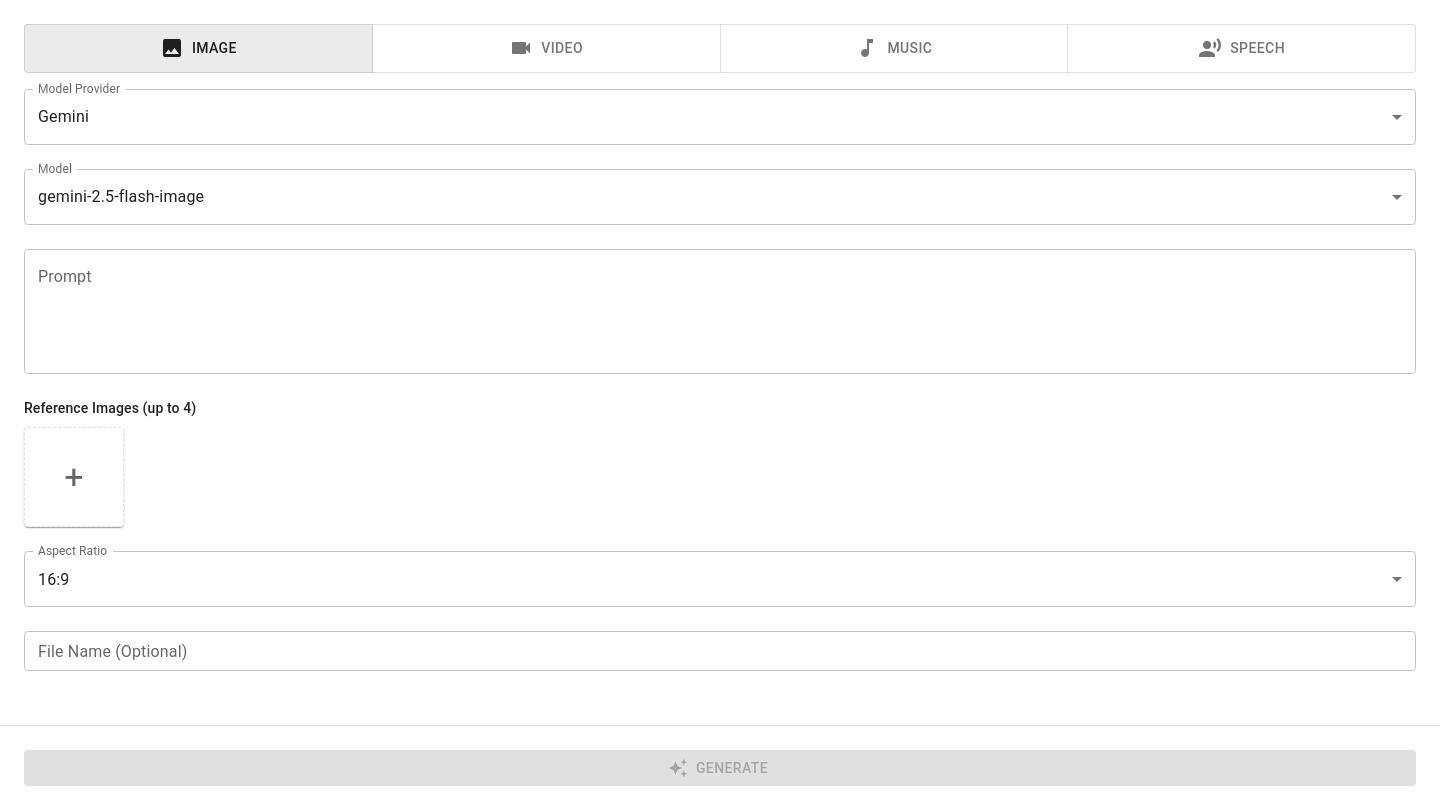
Test case: GenerateInterface › should display a success message on successful job initiation
Type "A successful prompt" into the text box labelled "Prompt" at (720, 311), box [38, 265, 1402, 357]
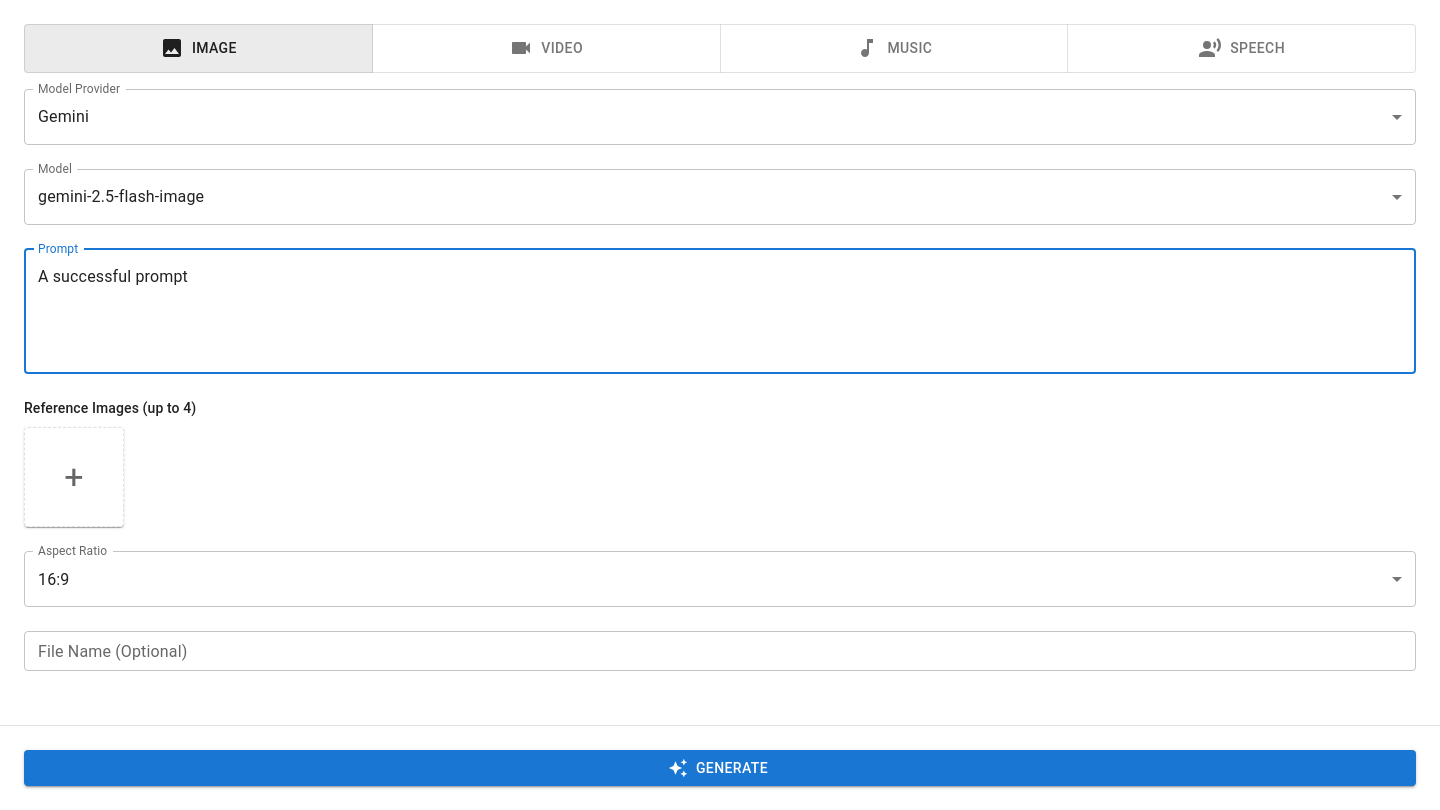
Click the button "Generate" at (720, 768), box [24, 750, 1416, 786]
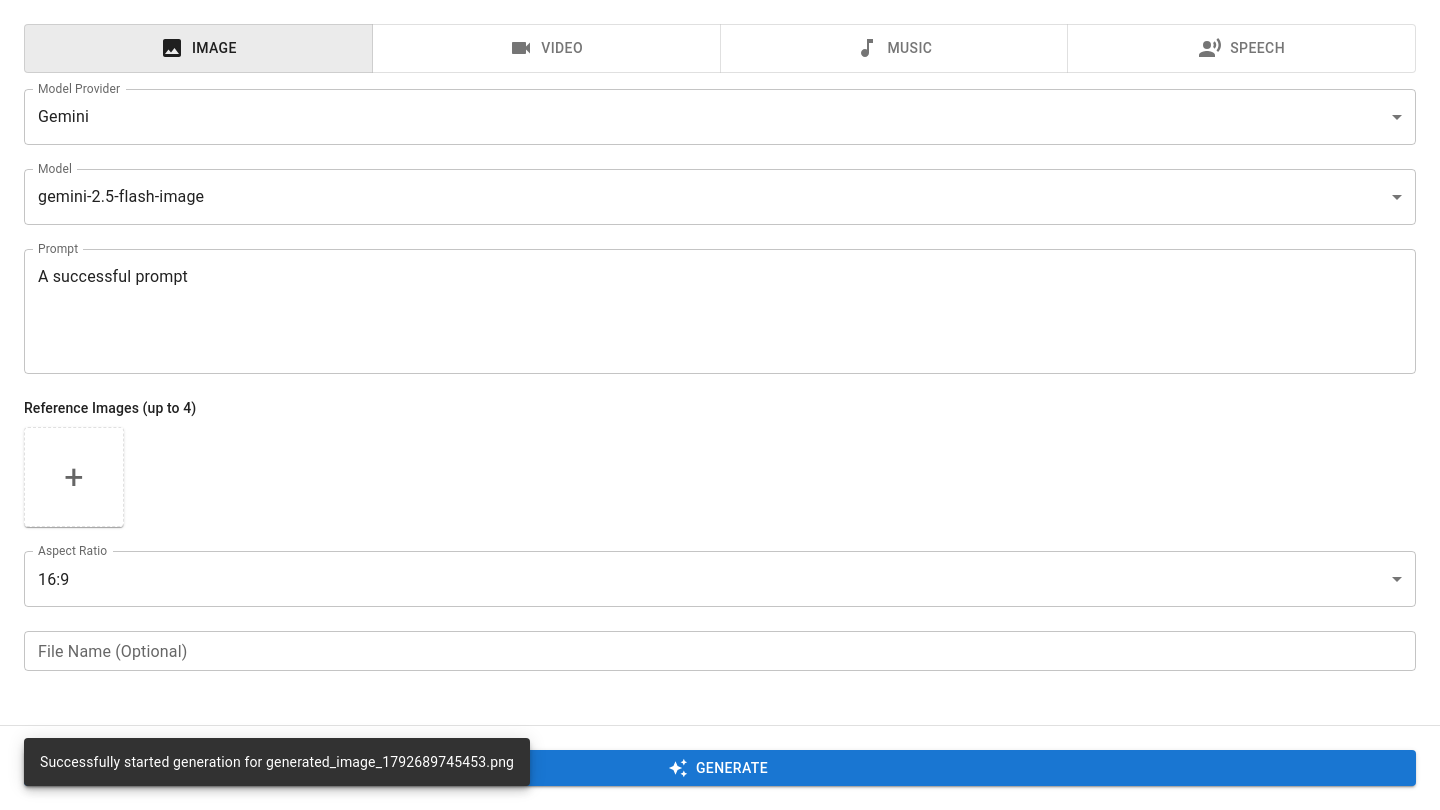
Check: the text "Successfully started generation" is shown, box [40, 754, 514, 770]
